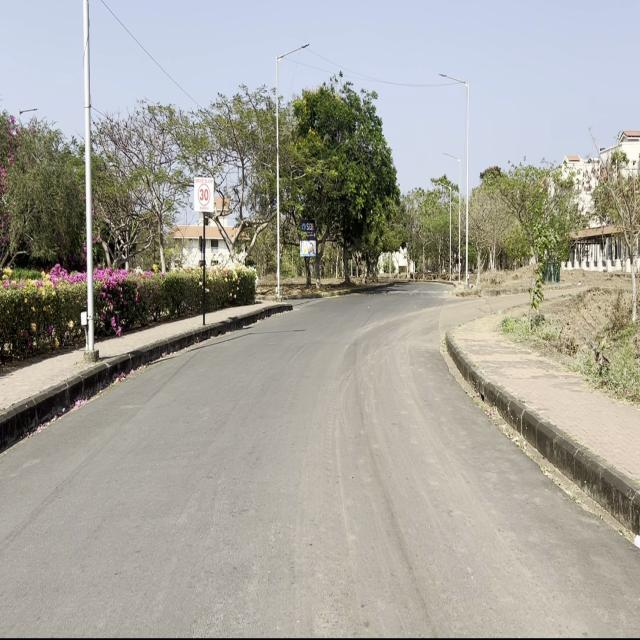Road: (4, 287, 638, 635)
